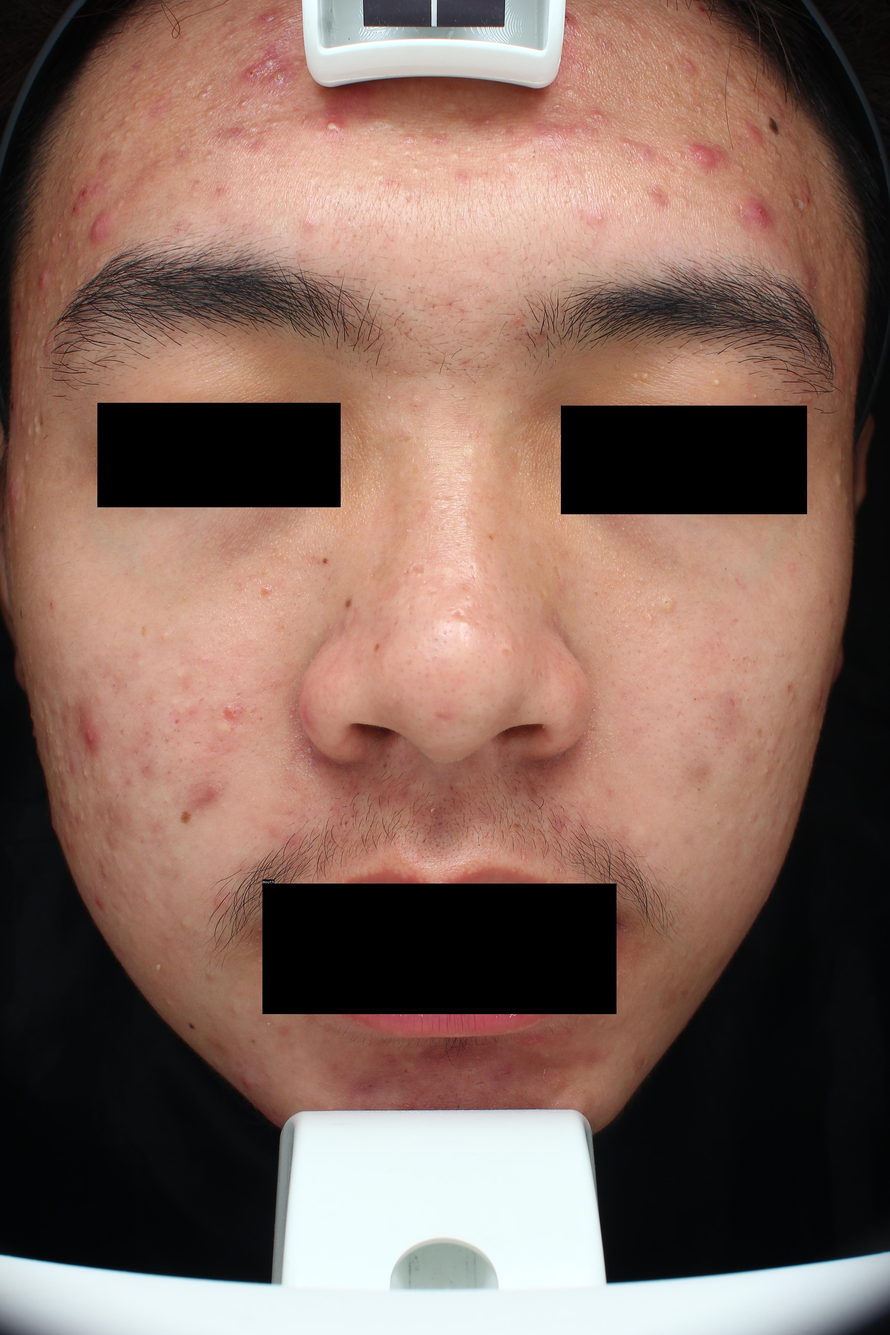atrophic_scar: (123, 148, 191, 198), (797, 229, 831, 310), (206, 122, 271, 155), (432, 709, 453, 724), (410, 562, 429, 578), (449, 609, 466, 622), (456, 580, 473, 593), (552, 564, 562, 581), (397, 434, 412, 444), (741, 655, 754, 666), (426, 587, 439, 597), (249, 707, 260, 717), (502, 649, 511, 658), (731, 616, 740, 625), (197, 697, 205, 707), (677, 711, 686, 719), (404, 194, 412, 203), (729, 697, 736, 707), (235, 690, 243, 698), (406, 604, 415, 611), (435, 841, 442, 848), (474, 1081, 486, 1085), (192, 741, 202, 745), (119, 728, 124, 736), (115, 793, 119, 802), (423, 580, 429, 585), (403, 1069, 409, 1073)
closed_comedo: (177, 918, 192, 931), (263, 118, 278, 129), (662, 60, 674, 73), (408, 394, 421, 406), (446, 101, 458, 113), (725, 823, 737, 835), (114, 197, 125, 209), (205, 966, 216, 978), (101, 110, 112, 121), (762, 764, 771, 776), (630, 1046, 639, 1058), (221, 19, 234, 27), (51, 706, 61, 716), (663, 93, 674, 102), (58, 281, 65, 294), (25, 424, 32, 437), (53, 749, 62, 759), (204, 107, 213, 117), (89, 108, 99, 117), (772, 754, 781, 764), (82, 831, 89, 843), (226, 32, 235, 41), (164, 998, 173, 1007), (764, 187, 773, 196), (129, 76, 139, 84), (736, 165, 744, 175), (182, 80, 193, 87), (198, 92, 209, 99), (75, 257, 82, 268), (79, 812, 86, 823), (647, 613, 654, 624), (203, 152, 212, 160), (260, 101, 269, 109), (160, 632, 169, 640), (138, 801, 146, 810), (230, 1007, 239, 1015), (76, 793, 83, 803), (133, 100, 141, 108), (371, 157, 379, 165), (451, 152, 459, 160), (190, 191, 198, 199), (680, 164, 688, 172), (688, 94, 696, 102), (205, 83, 214, 90), (33, 425, 40, 434), (774, 798, 781, 807), (69, 185, 76, 194), (622, 47, 631, 54), (39, 224, 45, 234), (66, 699, 72, 709), (123, 114, 131, 121), (68, 171, 75, 179), (412, 166, 419, 174), (717, 92, 725, 99), (81, 770, 88, 778), (178, 143, 185, 151), (299, 149, 307, 156), (791, 741, 796, 752), (76, 148, 82, 157), (36, 247, 41, 257), (598, 1019, 605, 1026), (250, 125, 258, 131), (75, 279, 81, 287), (682, 133, 690, 139), (640, 59, 648, 65), (404, 149, 412, 155), (76, 241, 81, 250), (24, 452, 28, 463), (109, 132, 115, 139), (124, 131, 131, 137), (768, 172, 774, 179), (695, 106, 702, 112), (175, 78, 182, 84), (35, 365, 40, 373), (54, 738, 59, 746), (48, 726, 53, 734), (57, 765, 62, 773), (70, 154, 75, 162), (788, 194, 793, 202), (776, 153, 782, 159), (35, 330, 40, 337), (41, 338, 46, 345), (316, 186, 323, 191), (32, 524, 37, 531), (33, 415, 37, 423), (678, 151, 684, 156), (33, 438, 37, 445), (79, 110, 84, 115), (43, 242, 47, 248), (805, 722, 809, 728), (812, 722, 816, 728), (789, 774, 792, 782), (61, 253, 65, 258), (51, 277, 55, 282), (55, 277, 59, 282), (45, 303, 49, 308), (59, 232, 62, 238), (267, 1022, 271, 1026)
hypertrophic_scar: (215, 723, 232, 739), (500, 640, 516, 653), (173, 666, 187, 680), (169, 698, 181, 709), (184, 699, 194, 712), (837, 472, 842, 490)
melasma: (140, 625, 148, 639), (756, 728, 763, 740)
nevus: (180, 810, 193, 825), (769, 116, 779, 134), (345, 597, 353, 609), (187, 1022, 196, 1030), (374, 643, 380, 652), (19, 607, 23, 618), (322, 557, 327, 564)
nodule: (6, 470, 26, 523)
open_comedo: (661, 597, 673, 610), (567, 88, 574, 95), (476, 841, 482, 849), (696, 787, 702, 794), (437, 164, 443, 170), (594, 590, 599, 596), (532, 154, 537, 159), (257, 580, 262, 585), (622, 971, 627, 976), (336, 269, 340, 275), (437, 156, 442, 160), (542, 163, 546, 167), (752, 659, 756, 663), (732, 658, 736, 662), (538, 121, 543, 124), (693, 698, 697, 701)
other: (713, 378, 720, 386), (429, 806, 436, 814), (156, 963, 162, 972), (642, 373, 648, 380), (632, 374, 638, 379), (753, 393, 757, 399)
papule: (689, 143, 723, 169), (747, 198, 772, 228), (89, 216, 108, 242), (743, 121, 764, 143), (222, 704, 240, 722), (638, 144, 655, 161), (562, 11, 577, 30), (577, 124, 594, 139), (804, 273, 818, 290), (37, 270, 48, 291), (257, 13, 276, 25), (84, 728, 96, 747), (706, 33, 720, 49), (241, 1075, 254, 1092), (48, 816, 60, 834), (814, 689, 824, 710), (302, 217, 316, 231), (402, 134, 416, 147), (592, 109, 606, 121), (260, 585, 274, 597), (621, 139, 636, 150), (94, 896, 105, 910), (65, 836, 74, 853), (48, 233, 57, 247), (238, 99, 250, 108), (683, 60, 694, 69), (803, 194, 811, 206), (72, 203, 80, 215), (836, 356, 843, 369), (100, 155, 110, 164), (81, 187, 89, 197), (696, 5, 706, 13), (46, 337, 52, 349), (98, 859, 105, 869), (804, 179, 809, 192), (793, 718, 798, 728), (786, 683, 793, 690), (808, 394, 814, 402), (37, 295, 41, 303), (50, 601, 54, 607), (772, 144, 776, 150), (95, 186, 98, 191)
pustule: (323, 116, 347, 133), (244, 66, 262, 82), (269, 70, 288, 84), (263, 55, 279, 71), (481, 117, 493, 126), (595, 213, 605, 223), (306, 747, 312, 755)
